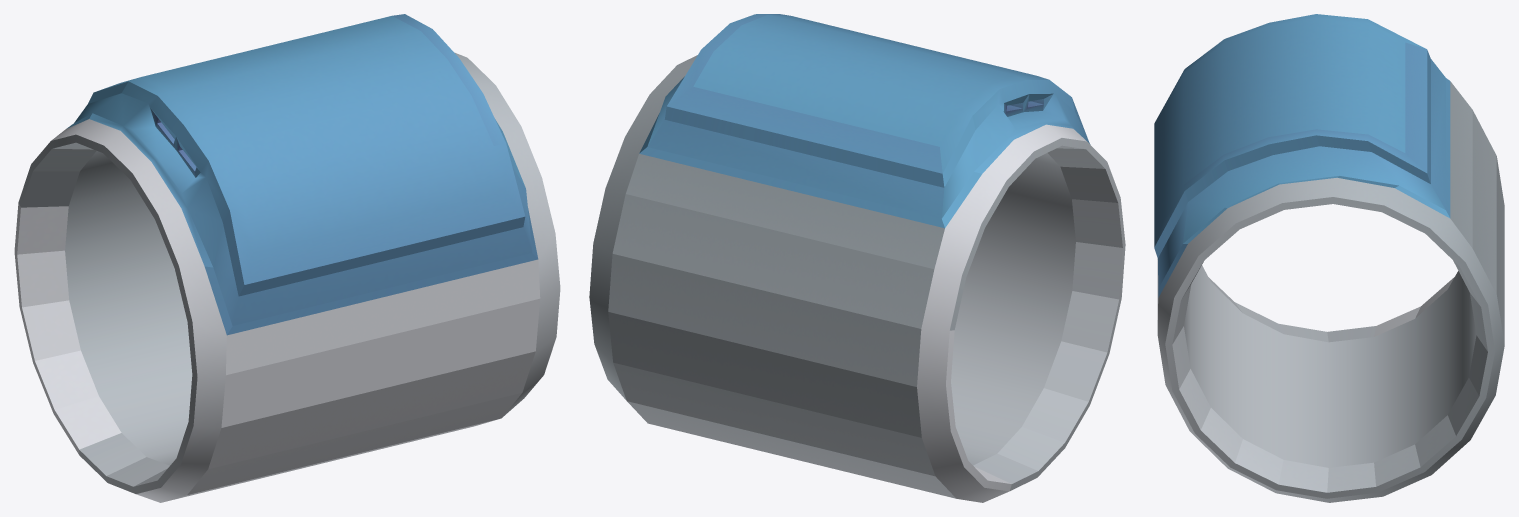
The model's file is Watch.fbx.
3 views of the same model, side by side, from view 1: azimuth 30°, elevation 25°; view 2: azimuth 150°, elevation 25°; view 3: azimuth 270°, elevation 25° (orthographic). The views are drawn at different scales.
Parts seen in each view (by area): view 1: watch; view 2: watch; view 3: watch.
Boxes of the visible parts, x1,y1,x2,y2 form: watch: [14, 14, 560, 502]; watch: [589, 14, 1125, 502]; watch: [1154, 14, 1504, 502].
Bounding box in the file's own units: 6.77 × 7.02 × 6.2.
